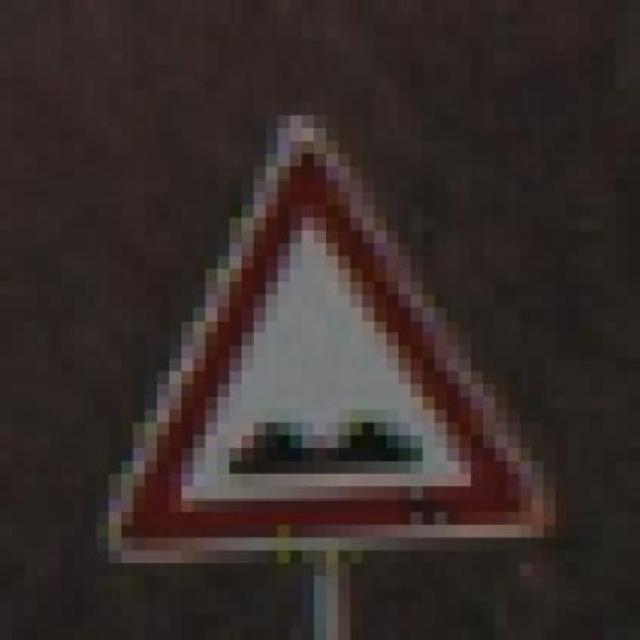Uneven Road: (72, 102, 556, 564)
